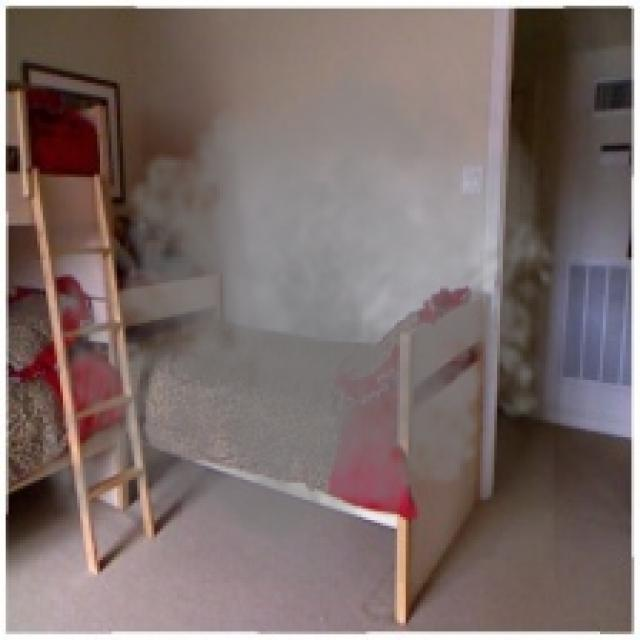smoke: (23, 31, 566, 583)
